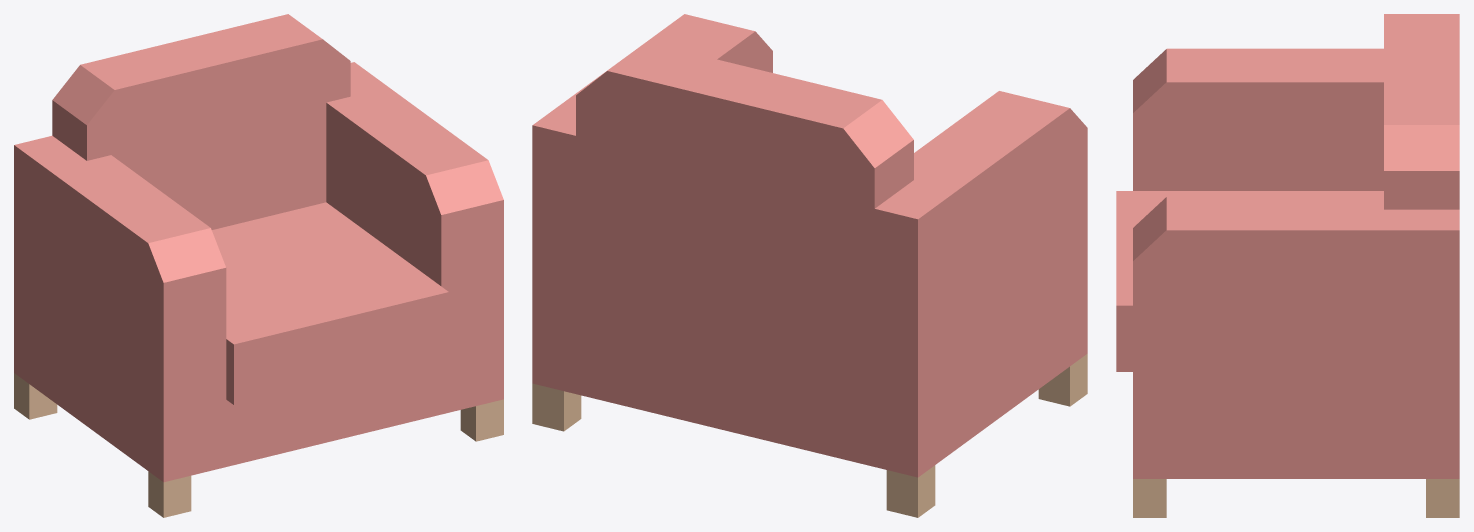
File: loungeChair-col.glb
3 views of the same model, side by side, from view 1: azimuth 30°, elevation 25°; view 2: azimuth 150°, elevation 25°; view 3: azimuth 270°, elevation 25° (orthographic). The views are drawn at different scales.
Visible parts, largest first — view 1: loungeChair-col; view 2: loungeChair-col; view 3: loungeChair-col.
Part boxes in pixels (box(x1,y1,x2,y2)): loungeChair-col: box(14, 14, 503, 517); loungeChair-col: box(532, 14, 1087, 517); loungeChair-col: box(1116, 14, 1459, 517).
Bounding box in the file's own units: 0.5 × 0.46 × 0.4.
